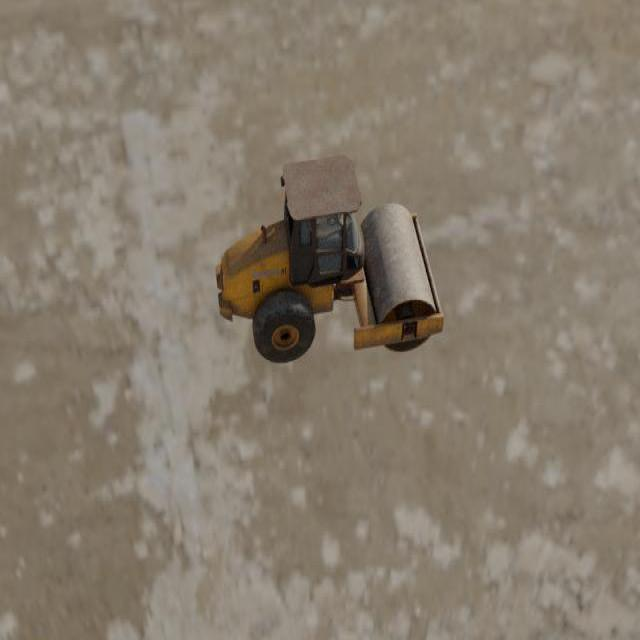Roller: (214, 153, 444, 364)
